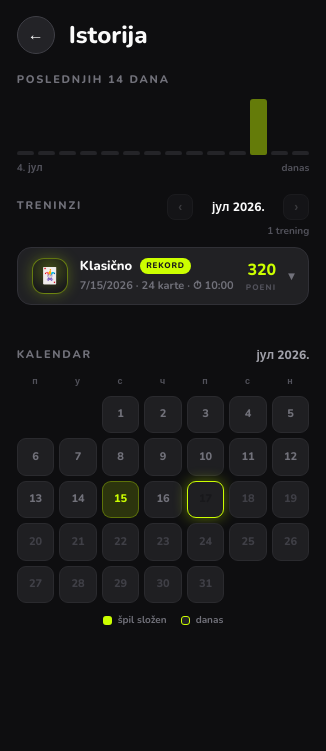
HistoryScreen › lazy backfill za sesije bez points; expand učitava details
Expected: the text "320" is shown, [246,258,276,282]
Step 1. Click the button "🃏 Klasično REKORD 7/15/2026 · 24 karte · ⏱ 10:00 320 POENI ▾" → [163, 276], box [18,248,308,304]
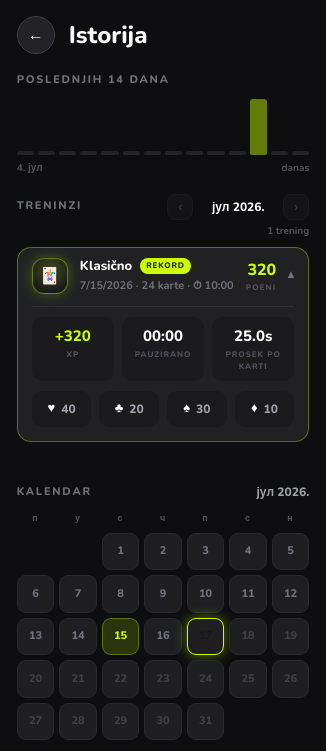
Expected: the element with test id "reps-by-suit" is shown, [32,391,294,426]
